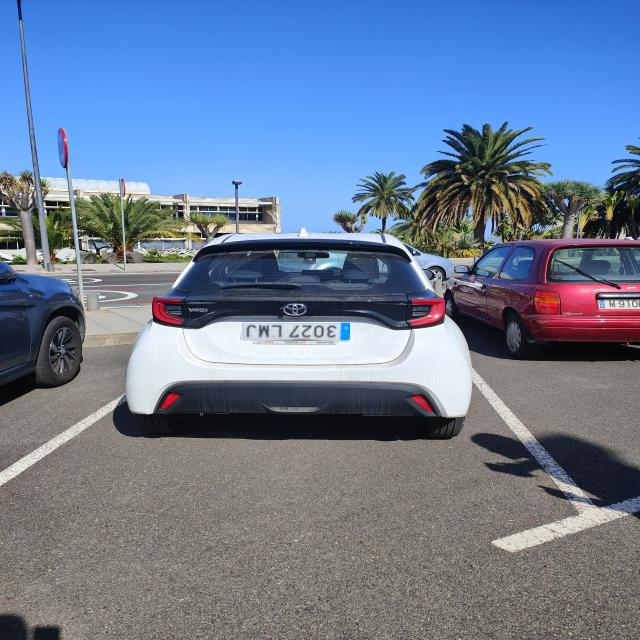License-Plate: (241, 322, 350, 341)
